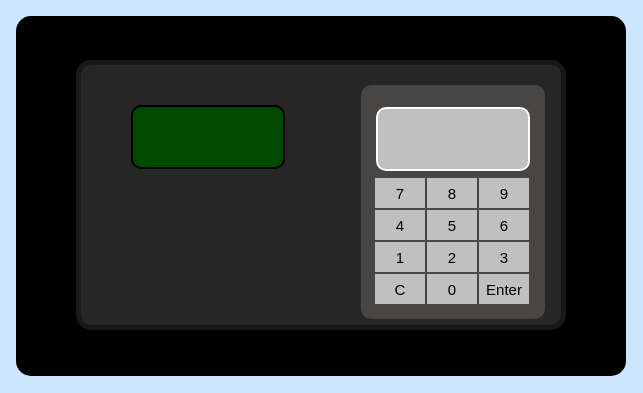
Test: Deve aparecer aberto quando eu clicar nas tecla numerica
Step 1. Click the button "1" → (400, 257), box x1=375 y1=242 x2=425 y2=272
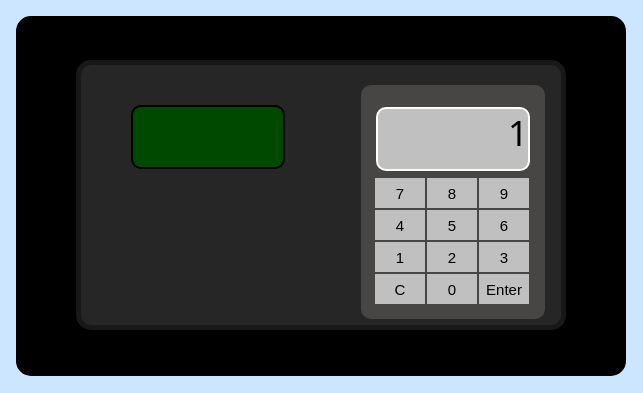
Step 2. Click the button "2" → (452, 257), box x1=427 y1=242 x2=477 y2=272
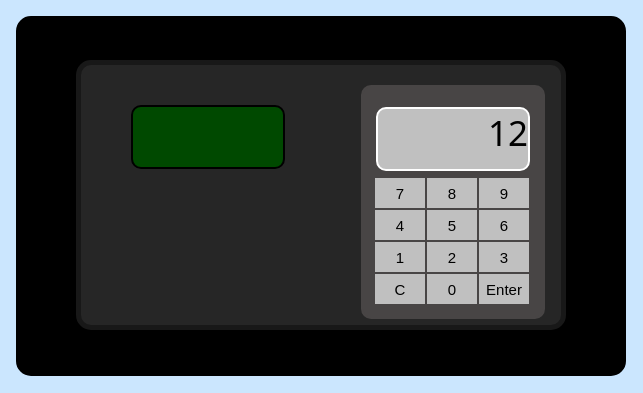
Step 3. Click the button "3" → (504, 257), box x1=479 y1=242 x2=529 y2=272
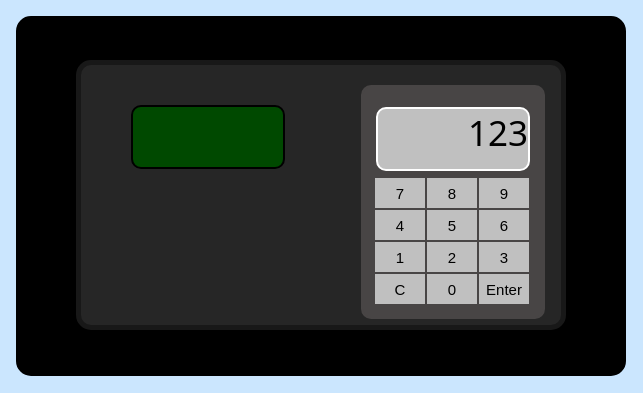
Step 4. Click the button "4" → (400, 225), box x1=375 y1=210 x2=425 y2=240
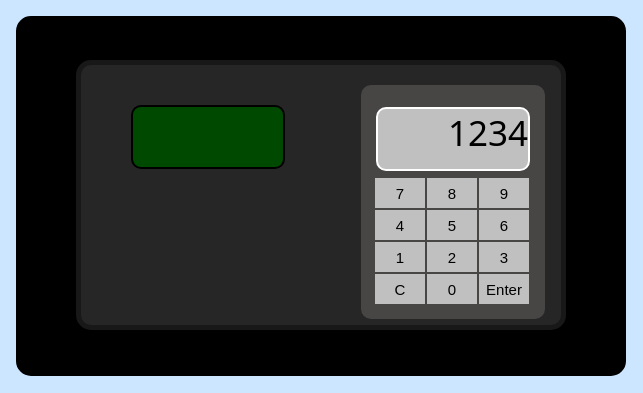
Step 5. Click the button "Enter" → (504, 289), box x1=479 y1=274 x2=529 y2=304
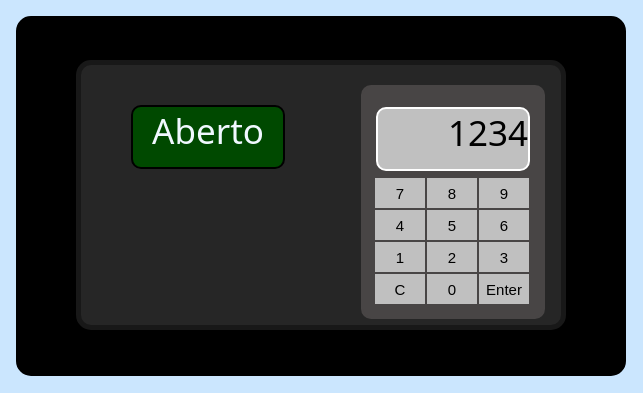
Result: the text with test id "display" reads "Aberto" at x1=152 y1=107 x2=264 y2=154
